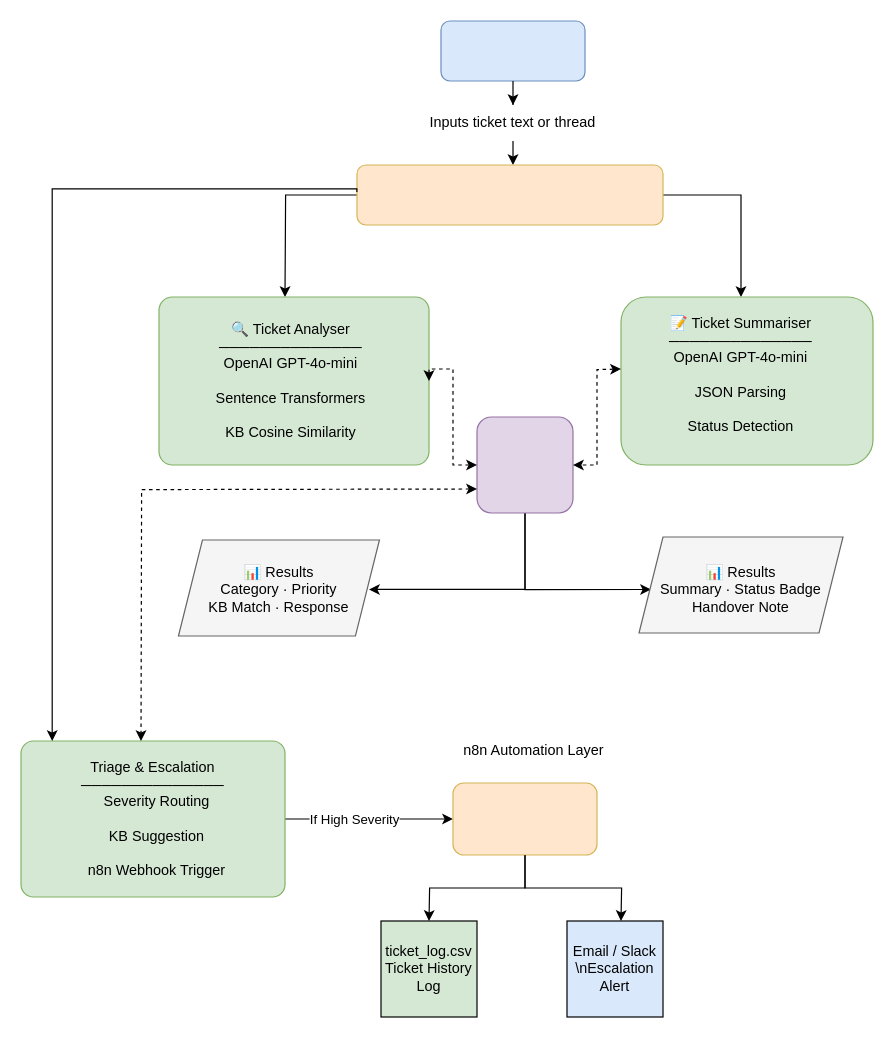
Image size: 894x1038. Some labels were removed from this diagram. The shapes that lost their labels are listed below. From the top down, each one's box as (x1, y1, x2, y2) in pixels, then its label:
(440, 20, 585, 81): User
(356, 164, 663, 225): Streamlit Web App
(476, 416, 573, 513): 🤖 OpenAI API GPT-4o-mini
(452, 782, 597, 855): 🔗 n8n Webhook
